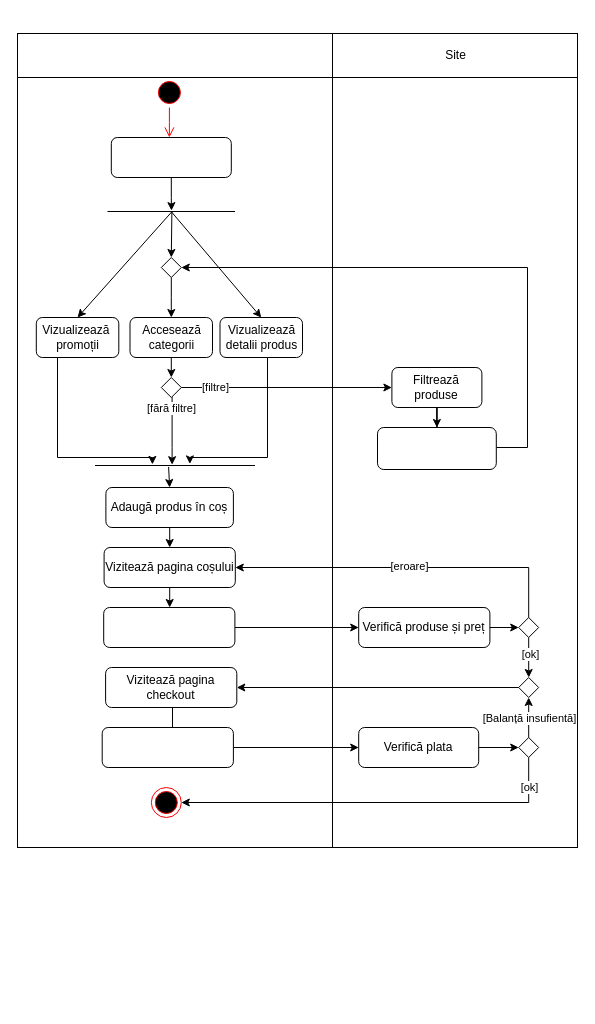
This 595x1024 diagram has some shape labels left out. The centre of each missing label's shape, as x and y in pixels:
Accesează pagina web: [170,157]
Apasă butonul „Continuă”: [169,627]
Client: [174,55]
Generează lista de produse: [436,448]
Plătește online: [167,747]
